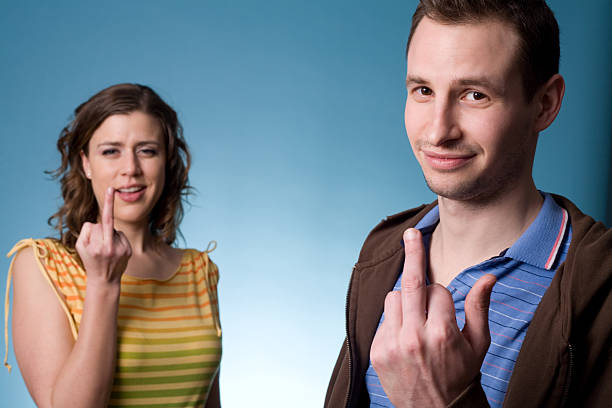insulting_gesture: (369, 225, 495, 408), (71, 184, 132, 292)
